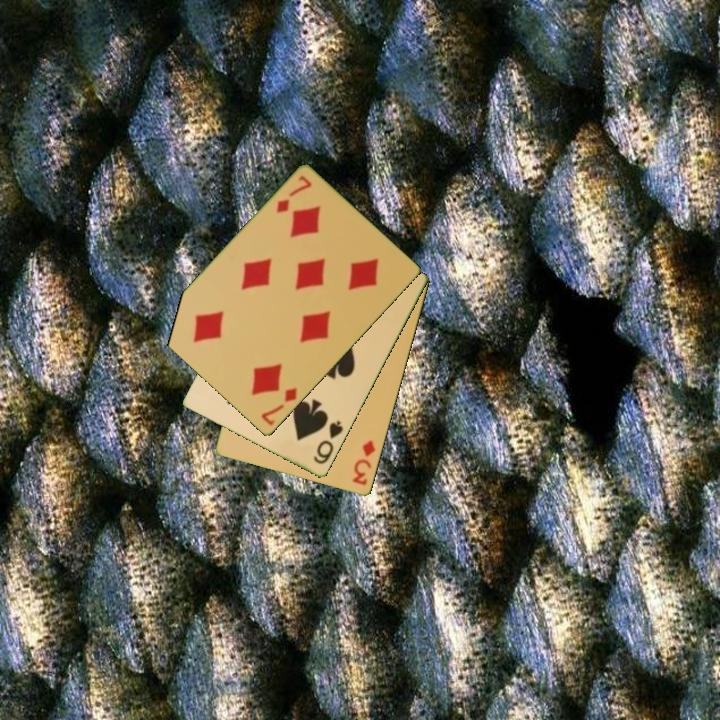3d: (349, 437, 379, 488)
6s: (310, 417, 346, 468)
7d: (257, 384, 300, 429), (273, 172, 315, 216)
